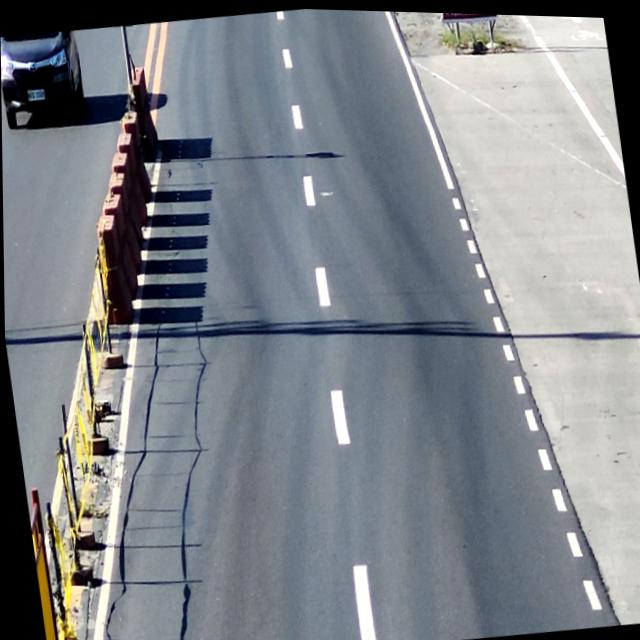License-Plate: (24, 84, 48, 106)
